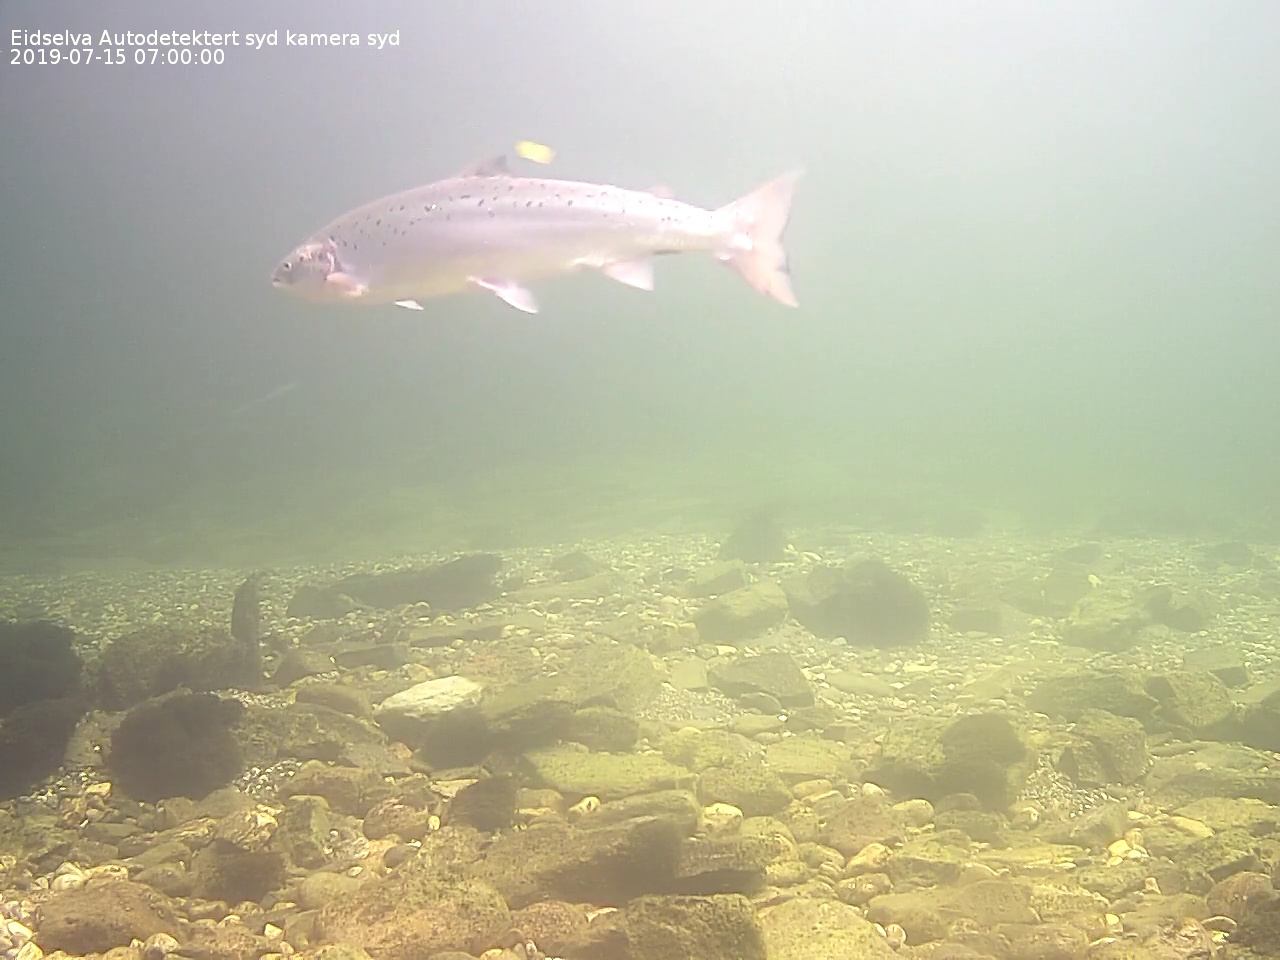salmon: (261, 141, 813, 325)
